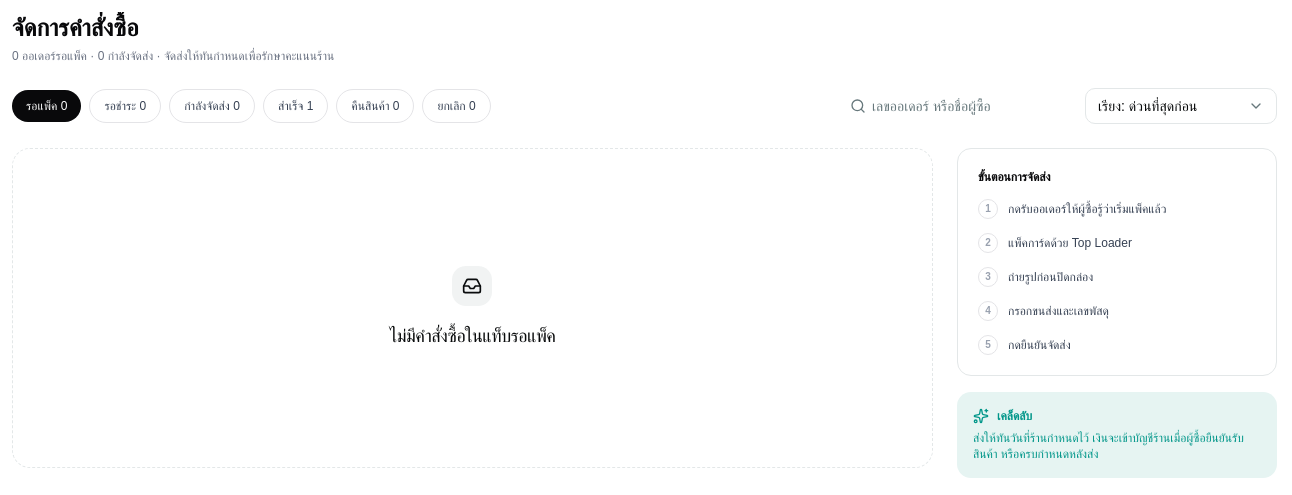
Test: SellerOrdersPage › recounts the tab chips when the seller switches tab, so a new order shows in both
This screenshot has width=1292, height=495.
What coordinates should you click on to do the following:
click the button "รอชำระ 0"
I would click on:
 (125, 106)
Its box is 89,89 -> 161,123.
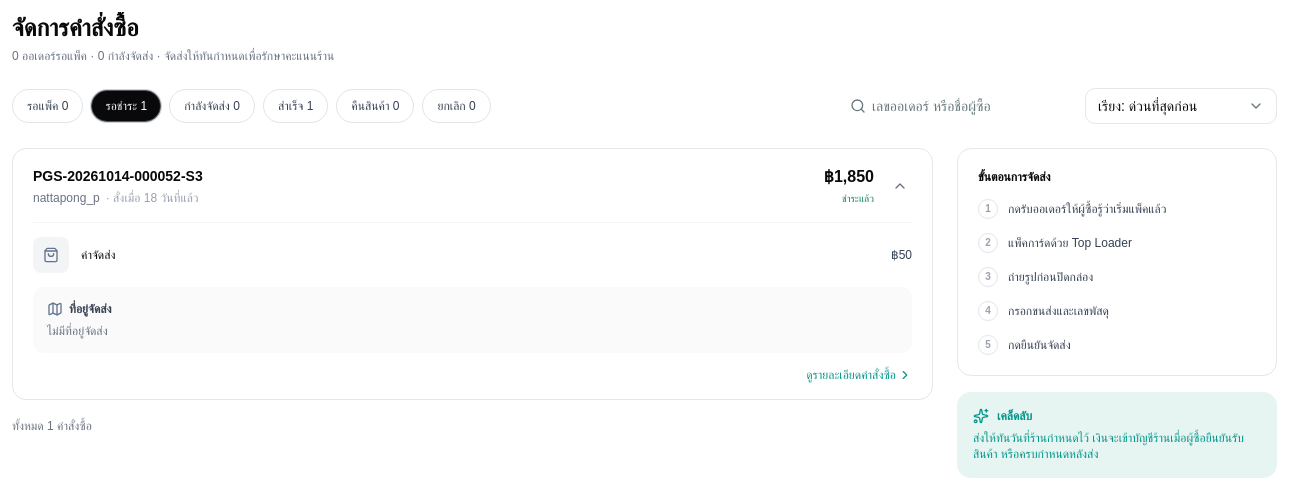
expect the link "PGS-20261014-000052-S3" is shown: met, box 33,166 -> 203,186
expect the button "รอชำระ 1" is shown: met, box 91,90 -> 161,122
